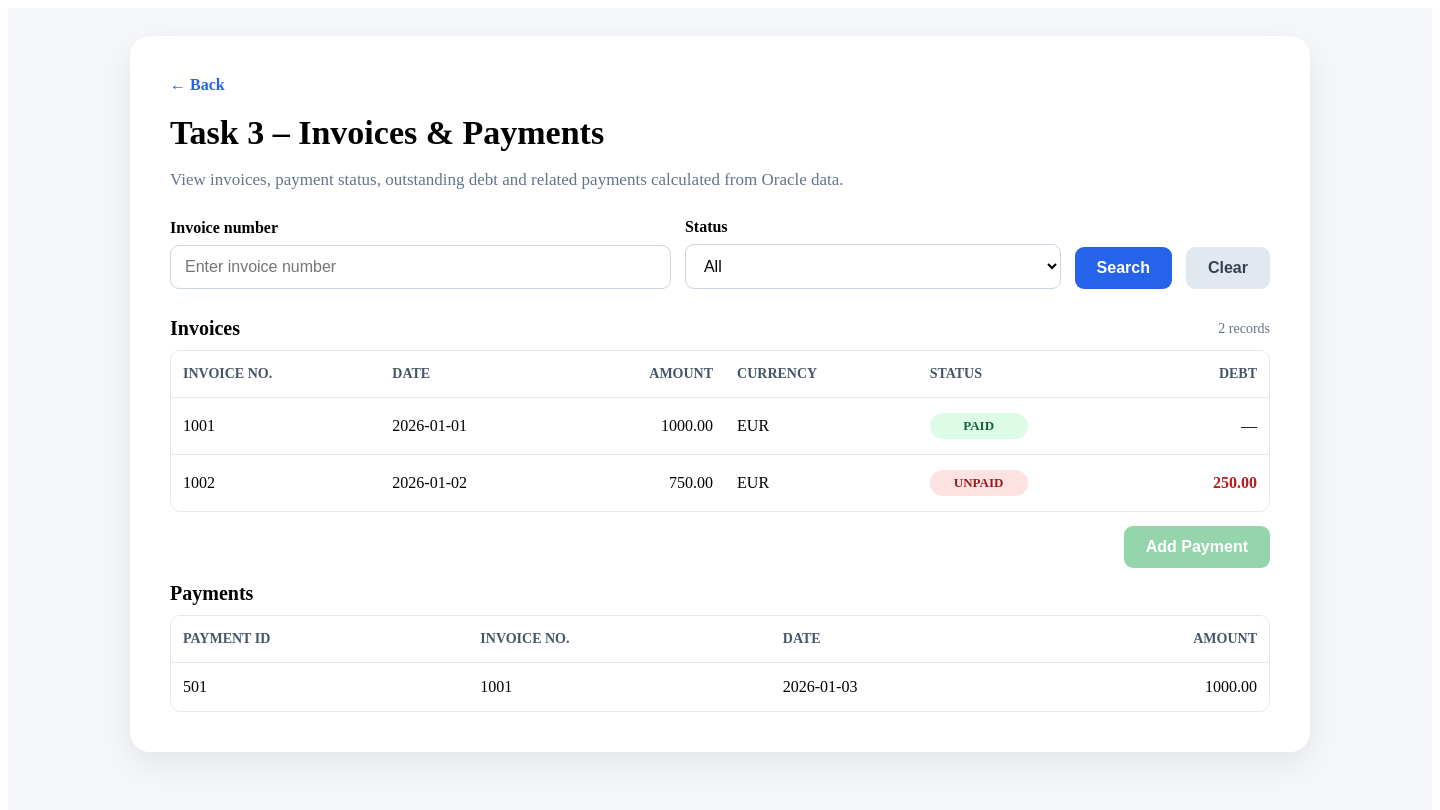
Scenario: InvoiceView › opens payment form with selected invoice data
The image size is (1440, 810).
Type "1002" into the number field with id "invoiceId". click: (420, 267)
box: [170, 245, 671, 289]
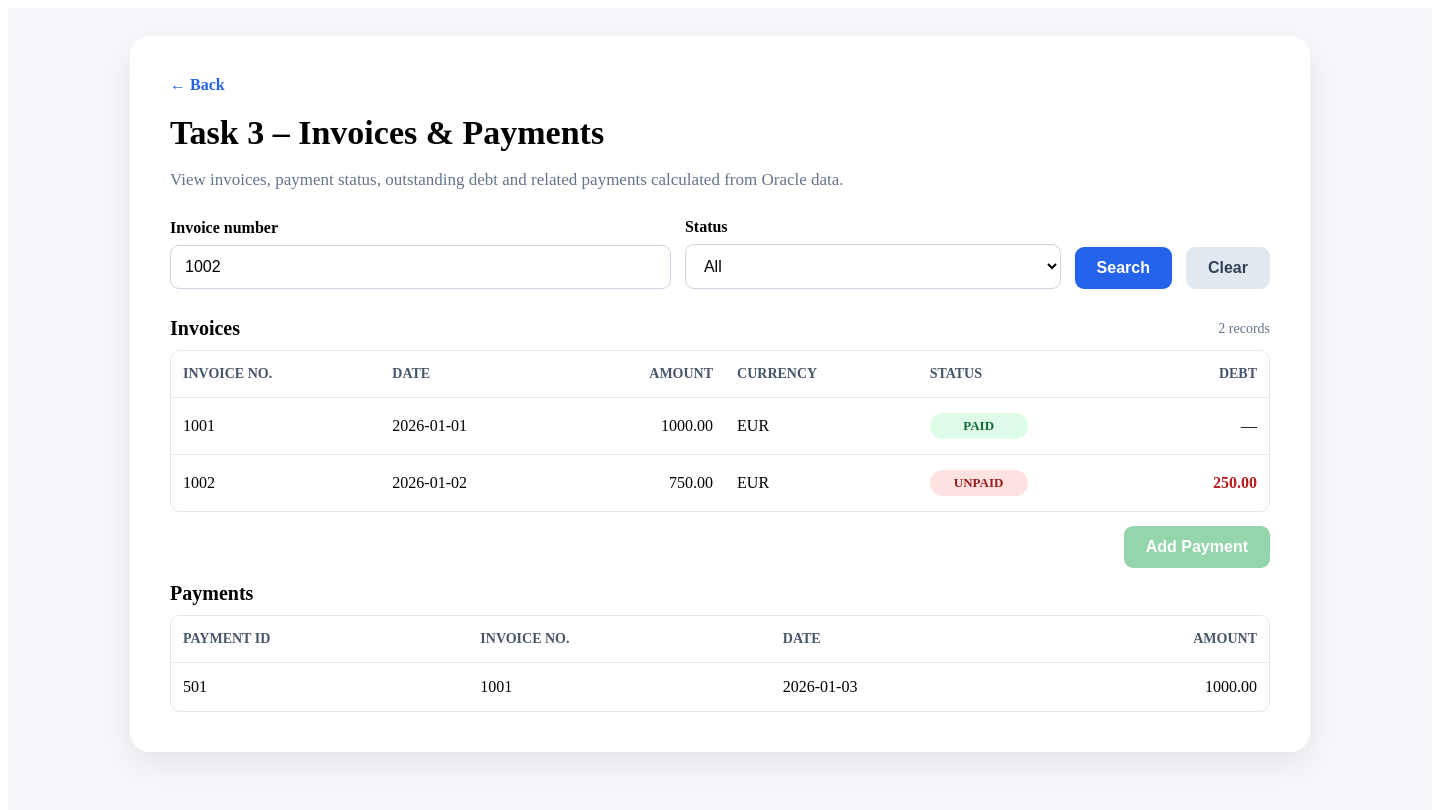
Submit the form with class "filters", box [170, 218, 1270, 289]
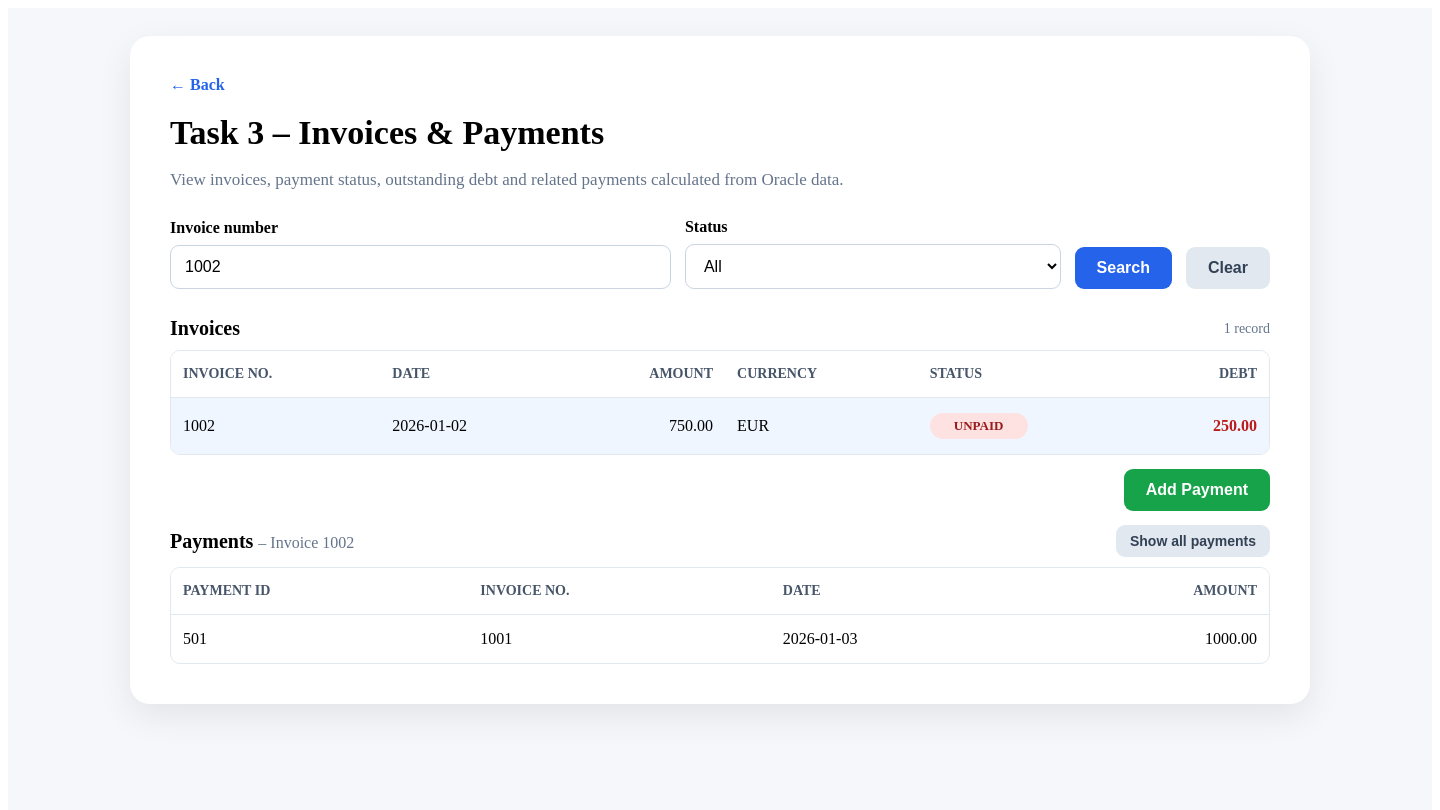
Now the button with class "add-payment" is enabled
Click the button with class "add-payment". click: (1197, 490)
box: [1124, 469, 1270, 511]
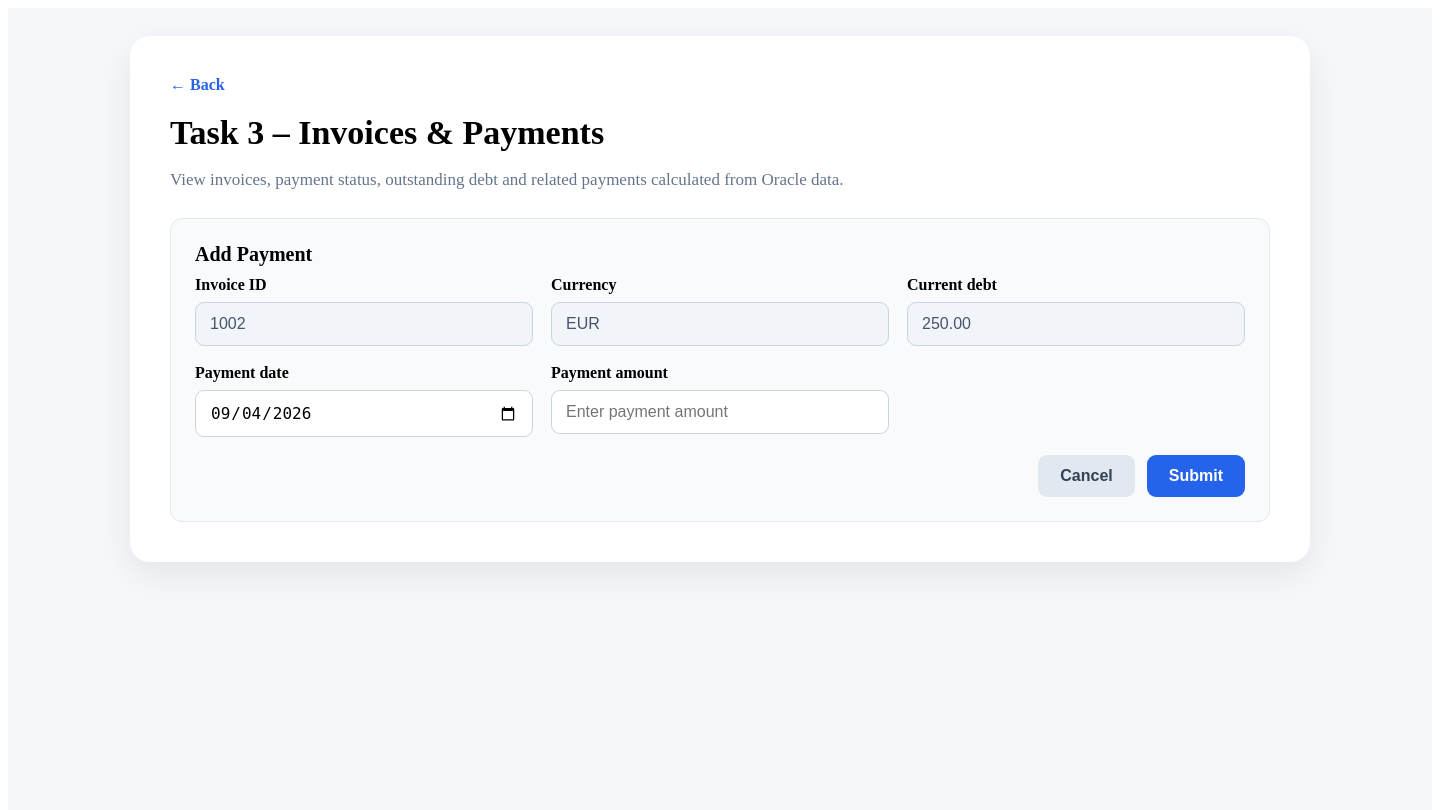
Now the form is shown, box [195, 276, 1245, 497]
Now the number field labelled "Invoice ID" holds "1002", box [195, 302, 533, 346]
Now the field labelled "Currency" holds "EUR", box [551, 302, 889, 346]
